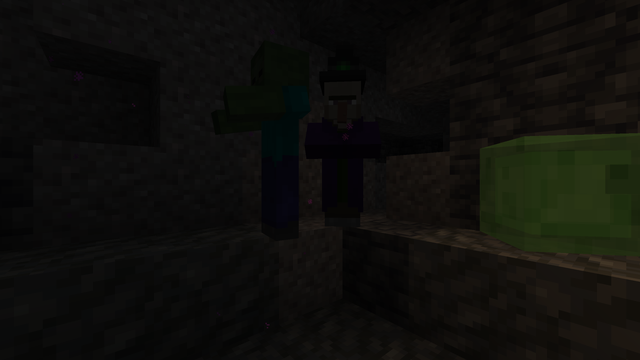slimes: (475, 123, 630, 263)
sorcieres: (326, 69, 373, 230)
zombies: (242, 40, 316, 244)
